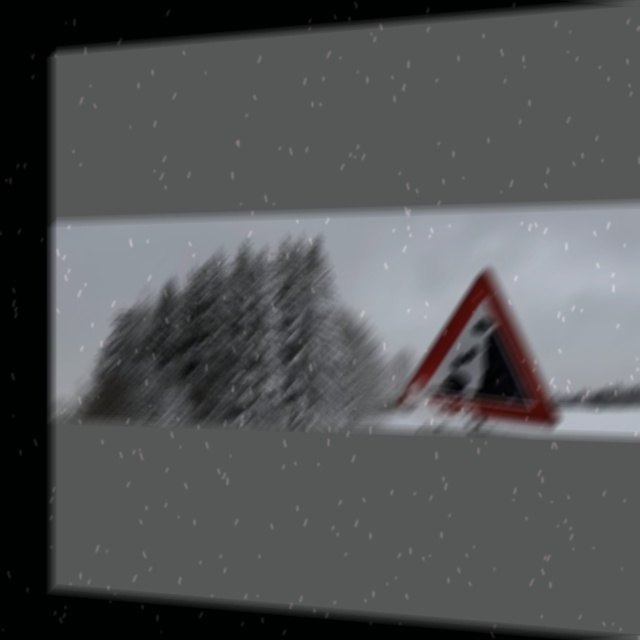Falling_Rocks: (405, 267, 557, 428)
